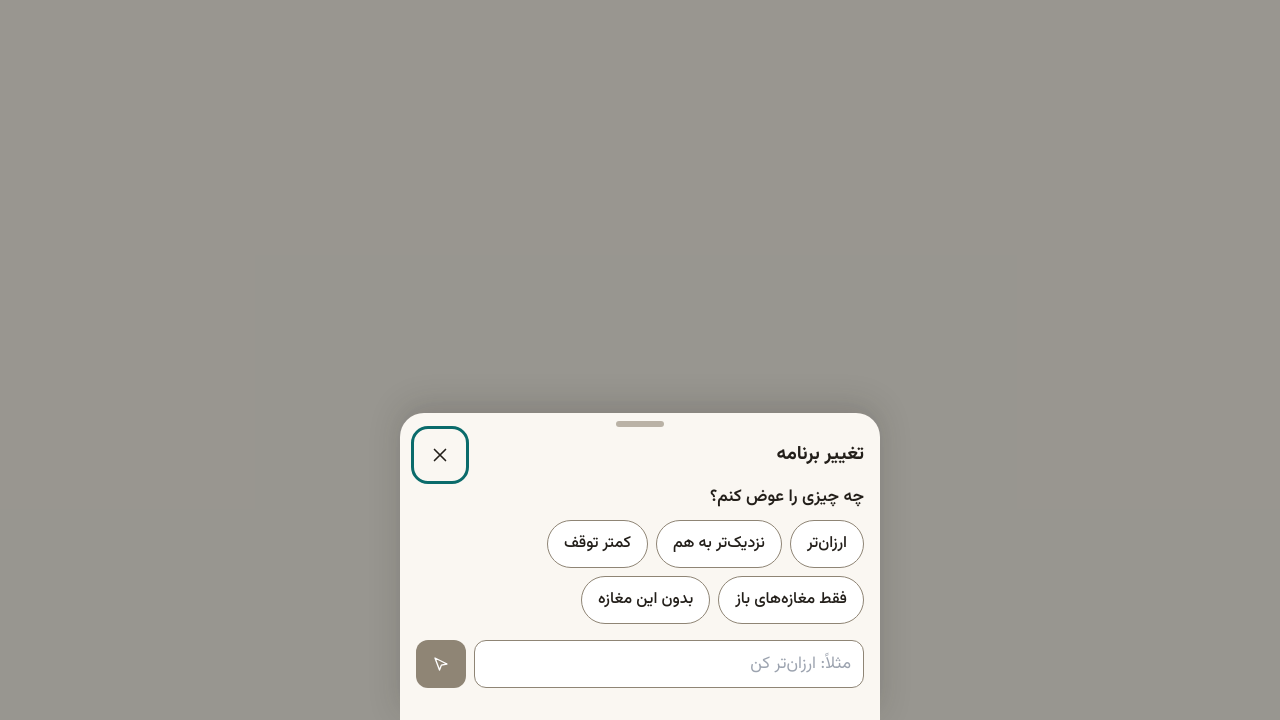
Test case: assistant sheet: no stale answer › an answer that changes nothing tells the page that its change banner is no longer the latest word
The image size is (1280, 720).
Click the button "ارزان‌تر" at (827, 544), box top-left (790, 520), bottom-right (864, 568)
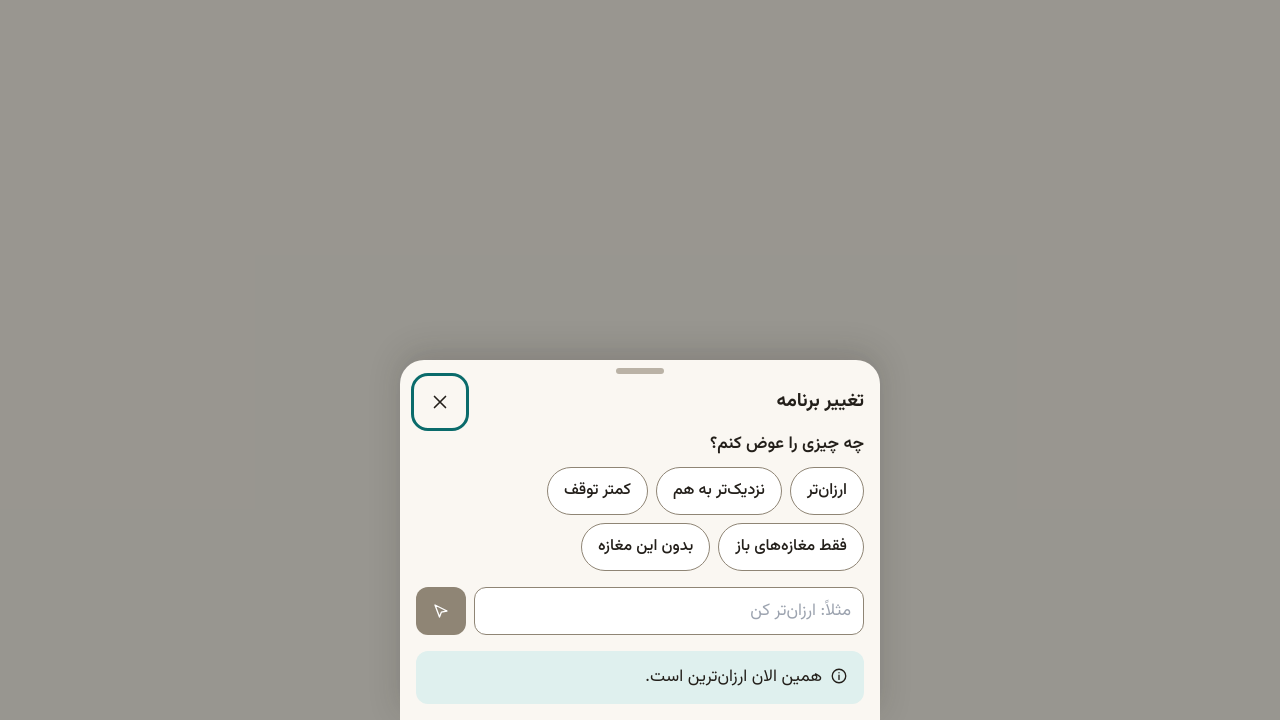
Now the text "همین الان ارزان‌ترین است." is shown, box top-left (645, 663), bottom-right (822, 692)
